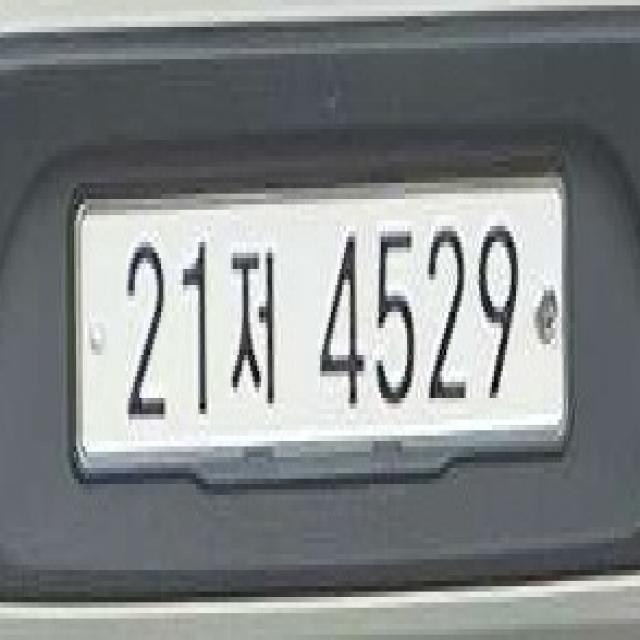1: (176, 220, 215, 430)
2: (424, 209, 472, 424), (119, 232, 170, 434)
4: (315, 220, 369, 420)
5: (370, 214, 418, 421)
9: (475, 208, 527, 418)
jeo: (224, 229, 280, 424)
license_plate: (77, 183, 569, 462)
